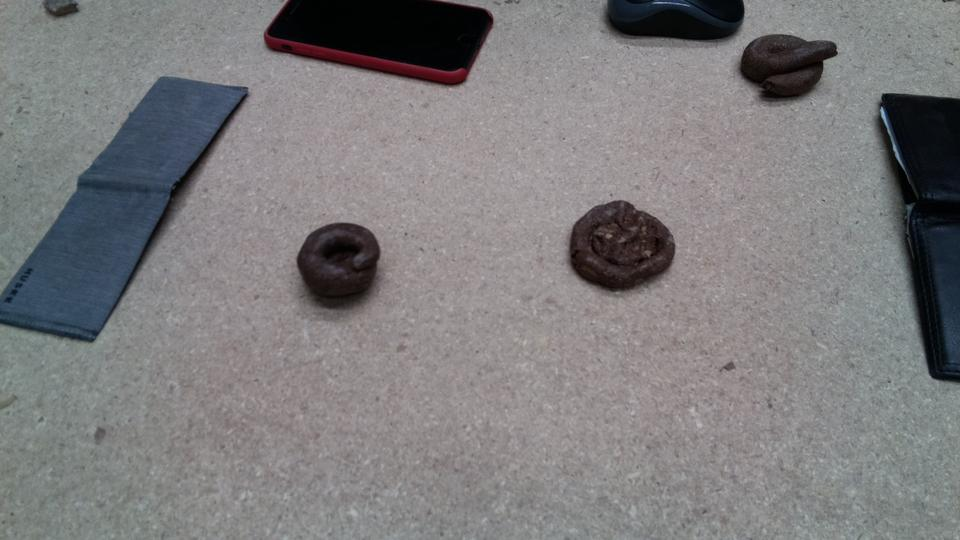poop: (566, 197, 678, 295), (738, 30, 842, 102), (295, 219, 381, 305)
